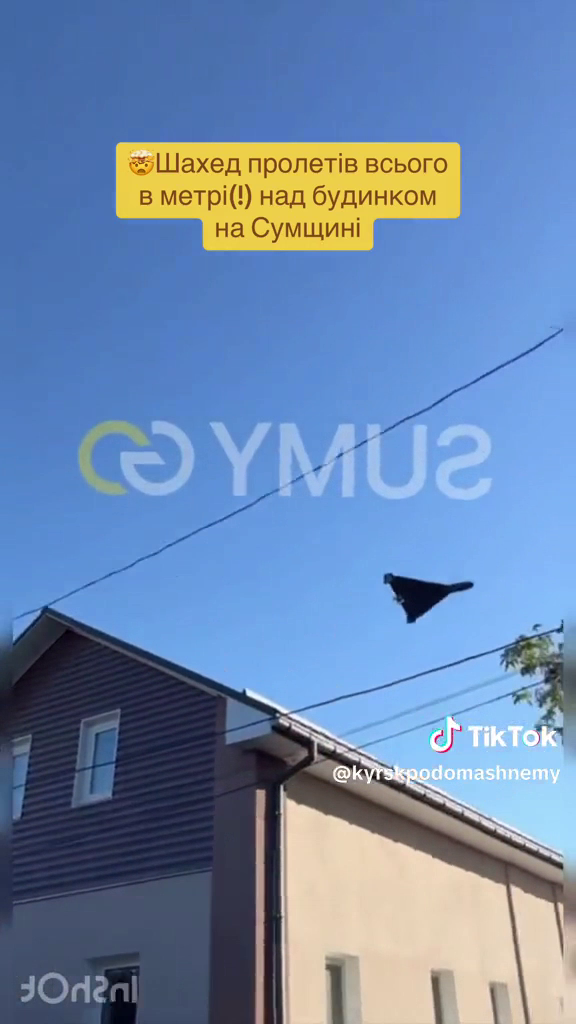shahed: (378, 568, 478, 630)
